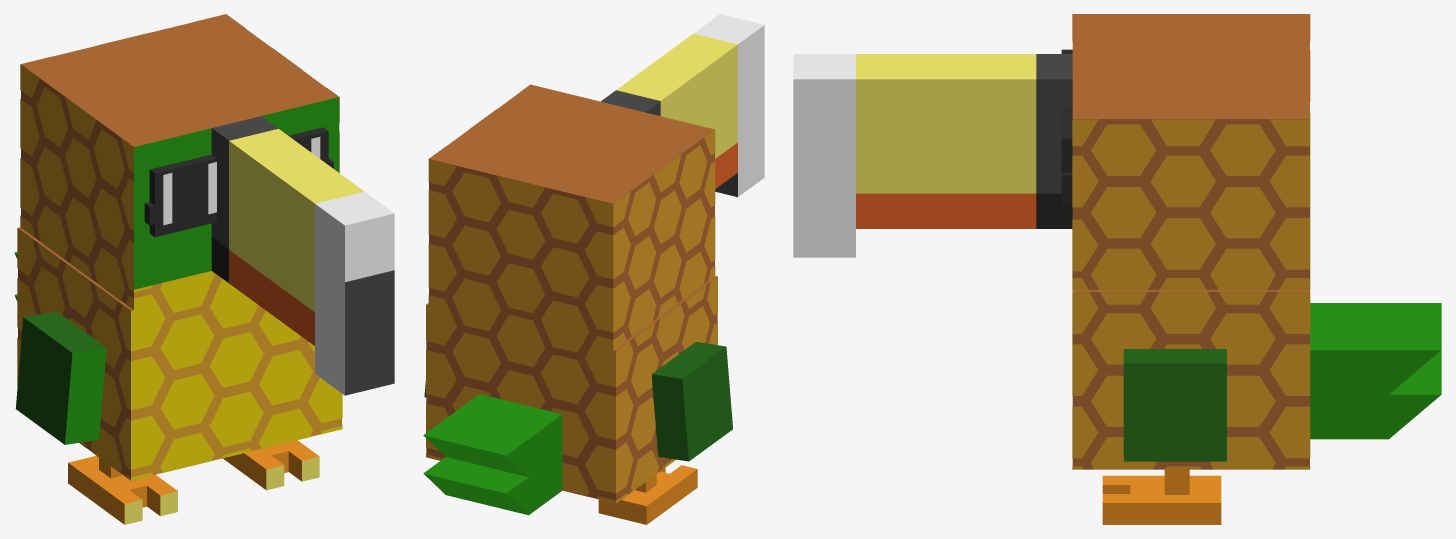
The picture shows the model from 3 angles, left to right: view 1: azimuth 30°, elevation 25°; view 2: azimuth 150°, elevation 25°; view 3: azimuth 270°, elevation 25°; orthographic projection. The views are drawn at different scales.
Visible parts, largest first — view 1: Ch_20_Head, Ch_20, Ch_20_Wing_L, Ch_20_Leg_L, Ch_20_Eye_01, Ch_20_Leg_R, Ch_20_Eye_03_L, Ch_20_Eye_03_R, Ch_20_Eye_02; view 2: Ch_20_Head, Ch_20, Ch_20_Wing_L, Ch_20_Leg_L; view 3: Ch_20_Head, Ch_20, Ch_20_Wing_R, Ch_20_Leg_R, Ch_20_Eye_03_R.
Boxes of the visible parts, x1,y1,x2,y2 form: Ch_20_Head: (20,14,394,395); Ch_20: (14,227,342,480); Ch_20_Wing_L: (15,312,106,444); Ch_20_Leg_L: (68,456,177,524); Ch_20_Eye_01: (163,137,320,225); Ch_20_Leg_R: (223,440,319,490); Ch_20_Eye_03_L: (149,154,216,237); Ch_20_Eye_03_R: (288,127,328,163); Ch_20_Eye_02: (144,158,333,225); Ch_20_Head: (428,14,764,350); Ch_20: (423,276,717,515); Ch_20_Wing_L: (652,342,732,461); Ch_20_Leg_L: (598,465,697,524); Ch_20_Head: (793,14,1310,290); Ch_20: (1072,207,1441,469); Ch_20_Wing_R: (1123,349,1226,461); Ch_20_Leg_R: (1102,469,1221,524); Ch_20_Eye_03_R: (1061,107,1072,205).
Bounding box in the file's own units: 7.91 × 10 × 14.38.
